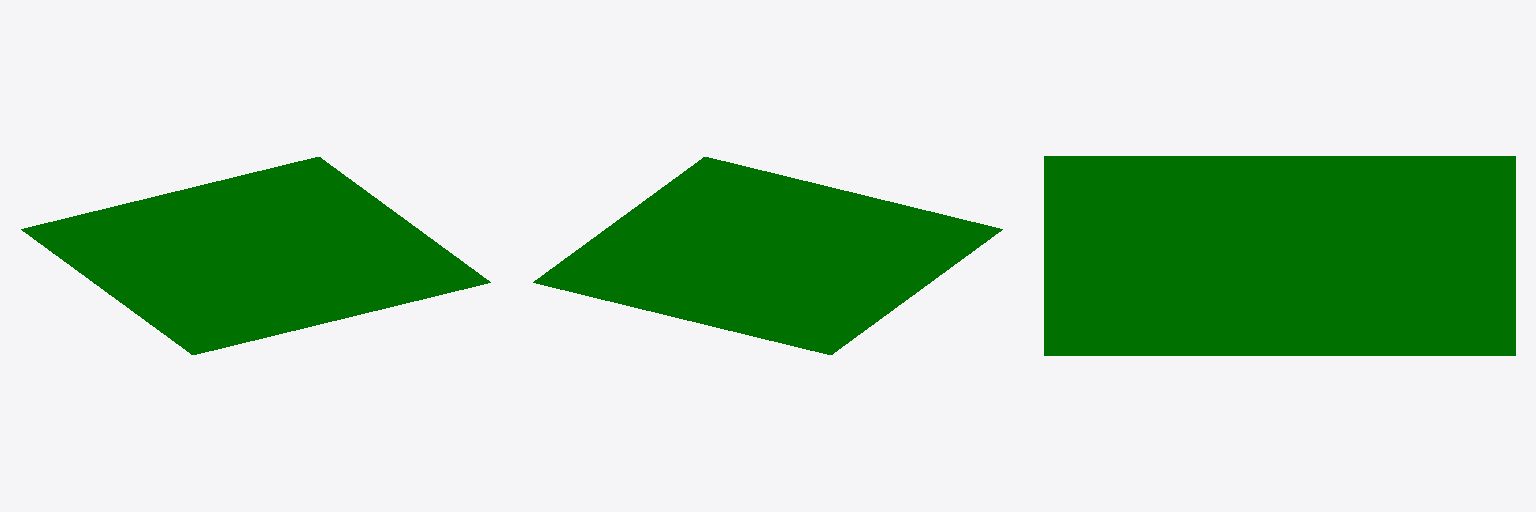
The robot description file, URDF, robot "lights":
<?xml version="1.0"?>
<robot name="lights">

<link name="base_link">   
</link>

<link name="world">   
<visual>
<geometry>
<box size="100 100 .01"/>
</geometry>
<material name="green">
<color rgba="0 0.5 0 1" />
</material>
</visual>
</link>

<!-- links  -->

<joint name="base_link_to_world" type="fixed">
<origin rpy="0 0 0" xyz="0.0 0.0 -0.005"/>
<parent link="base_link"/>
<child link="world"/>
</joint>

<!-- joints  -->

</robot>

--- Render facts (derived) ---
The picture shows the robot from 3 angles, left to right: view 1: azimuth 30°, elevation 25°; view 2: azimuth 150°, elevation 25°; view 3: azimuth 270°, elevation 25°; orthographic projection.
Robot: lights — 2 links, 1 joints (1 fixed); root link base_link; default pose: every joint at zero.
Links seen in each view (by area): view 1: world; view 2: world; view 3: world.
Boxes of the visible links, <box> form: world: <box>21,157,490,354</box>; world: <box>533,157,1002,354</box>; world: <box>1044,156,1515,355</box>.
Bounding box of the posed robot: 100 × 100 × 0.01 m (x, y, z).
Geometry: primitives only (box / cylinder / sphere), no mesh files.
